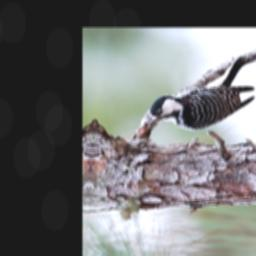Woodpecker: (144, 50, 256, 137)
